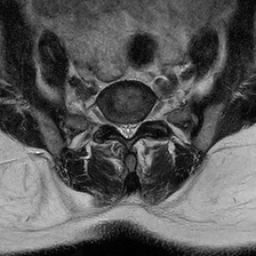CCS_stenosis: (124, 115, 131, 142)
LFS_severe_stenosis: (137, 113, 145, 130)
LLS_normal: (131, 116, 138, 139)
RFS_stenosis: (107, 113, 116, 132)
RLS_normal: (116, 115, 124, 139)
